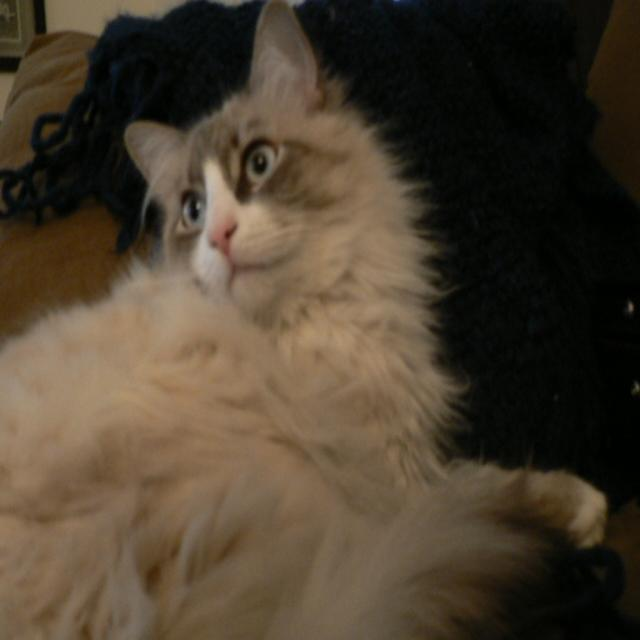Cat: (0, 0, 609, 639)
